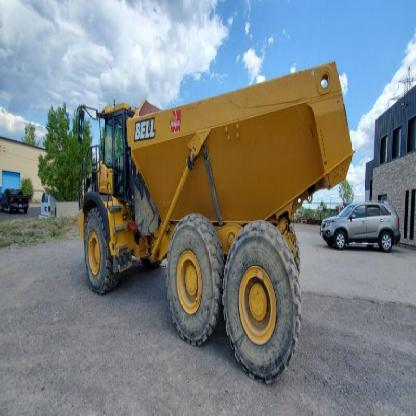dump_truck: (71, 48, 358, 390)
